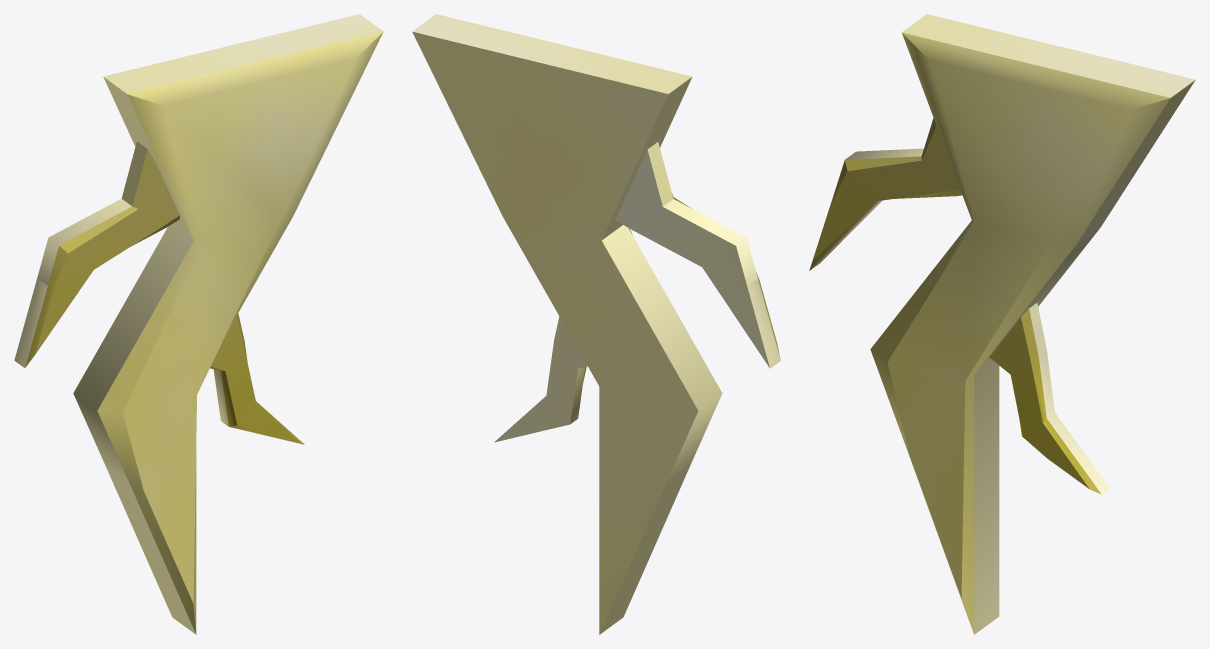
Rendered from Model_Lightning_2.fbx.
3 renders of one model, left to right at view 1: azimuth 30°, elevation 25°; view 2: azimuth 150°, elevation 25°; view 3: azimuth 330°, elevation 25°, orthographic. The views are drawn at different scales.
Visible parts, largest first — view 1: polySurface1; view 2: polySurface1; view 3: polySurface1.
Part boxes in pixels (box(x1,y1,x2,y2)): polySurface1: box(14, 14, 383, 634); polySurface1: box(412, 14, 780, 634); polySurface1: box(809, 14, 1195, 634).
Bounding box in the file's own units: 18.55 × 28.11 × 2.62.
Materials: 1 (1 with a texture image).
